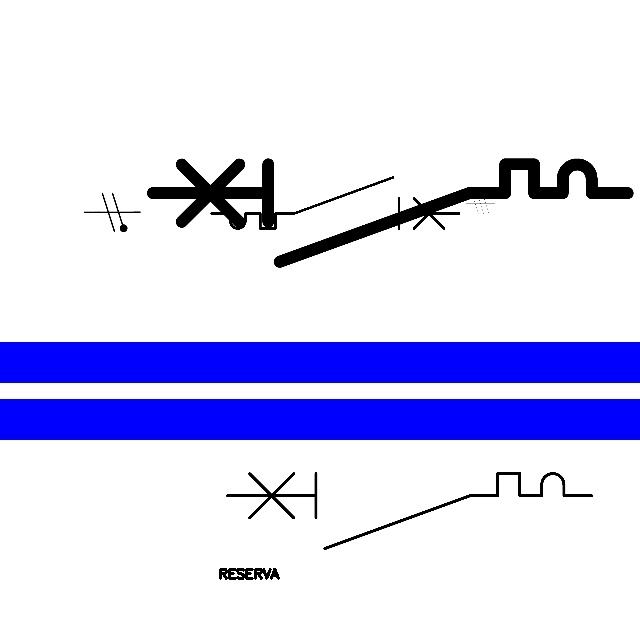interruptor_termomagnetico: (140, 152, 639, 274), (218, 464, 601, 558), (205, 171, 466, 235)
